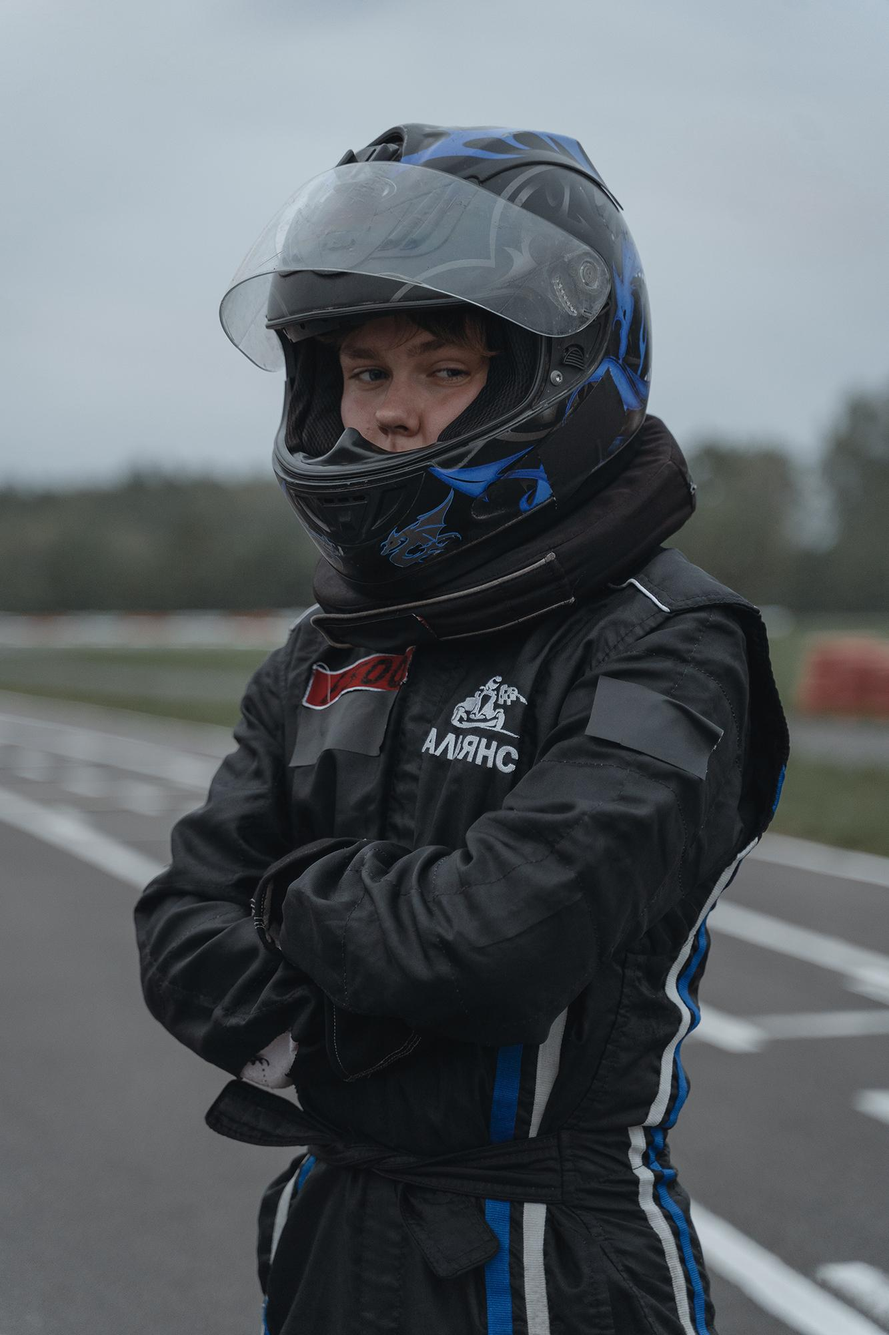helmet: (215, 119, 655, 589)
